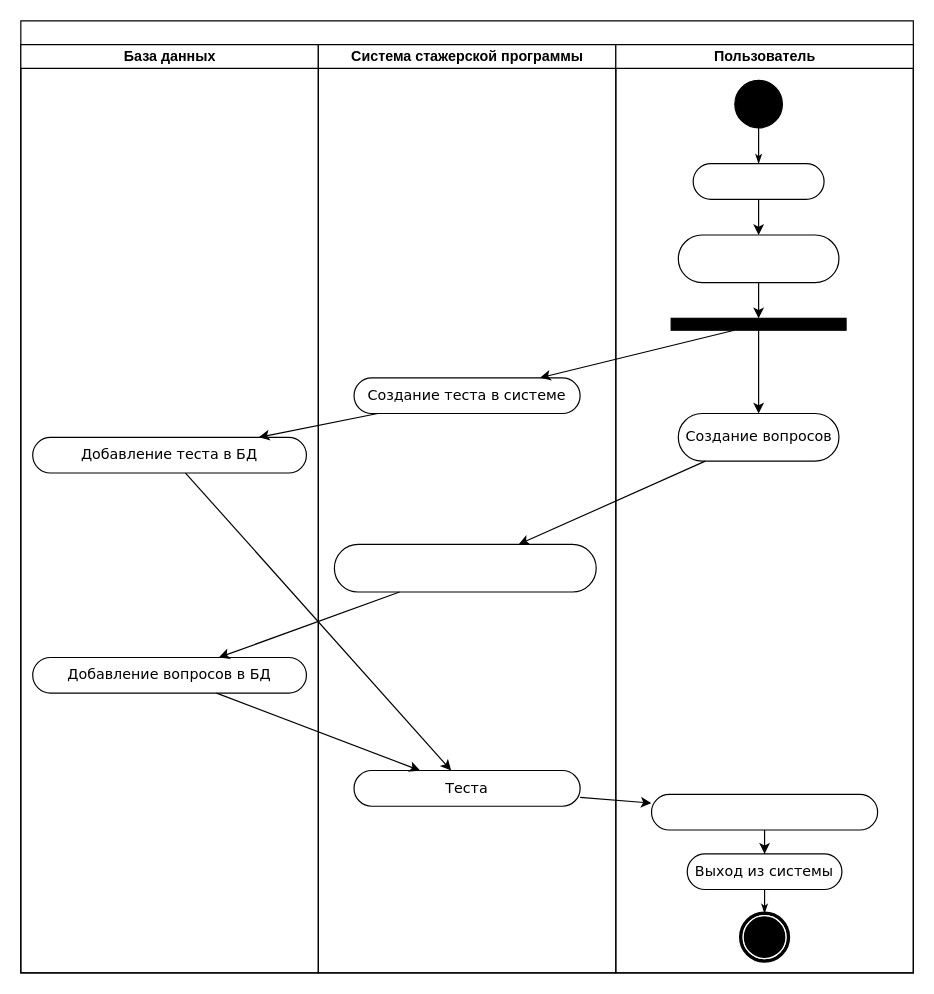
Image size: 934x994. Some labels were removed from this diagram. The centre of each missing label's shape, as x and y in pixels:
"Вход в систему" belongs at (x=758, y=180).
"Просмотр теста" belongs at (x=764, y=811).
"Создание вопросов в системе" belongs at (x=464, y=567).
"Создание теста" belongs at (x=758, y=258).
